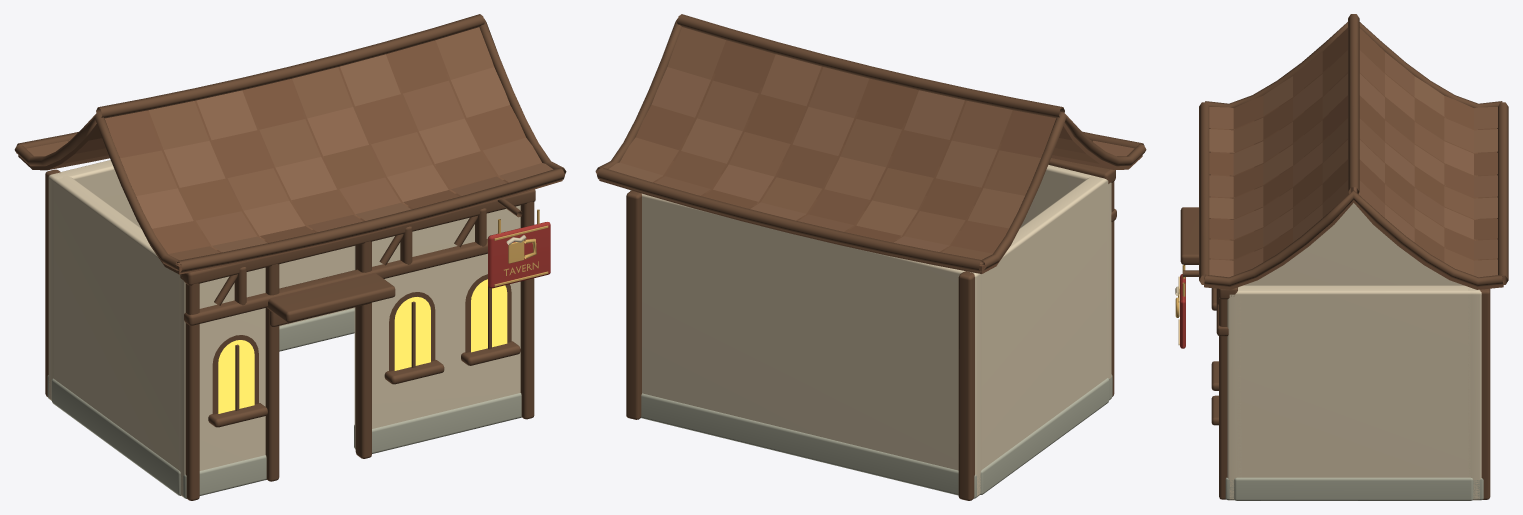
File: tavern.glb
3 renders of one model, left to right at view 1: azimuth 30°, elevation 25°; view 2: azimuth 150°, elevation 25°; view 3: azimuth 270°, elevation 25°, orthographic. The views are drawn at different scales.
Visible parts, largest first — view 1: tavern-exterior; view 2: tavern-exterior; view 3: tavern-exterior.
Boxes of the visible parts, box(x1,y1,x2,y2) form: tavern-exterior: box(14, 14, 566, 500); tavern-exterior: box(595, 14, 1146, 500); tavern-exterior: box(1175, 14, 1508, 500).
Size of the model in its own units: 4.73 by 3.99 by 3.75.
